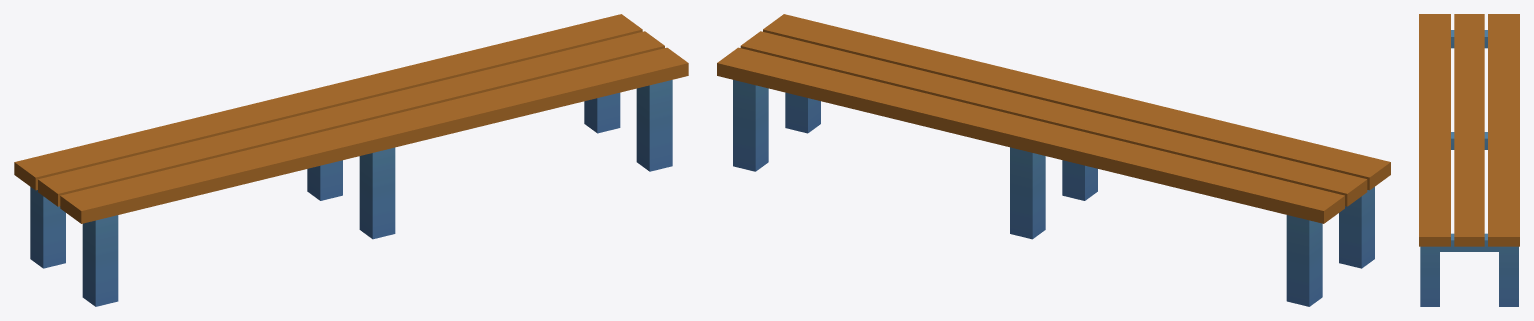
Rendered from Bench_1_B_3.fbx.
3 renders of one model, left to right at view 1: azimuth 30°, elevation 25°; view 2: azimuth 150°, elevation 25°; view 3: azimuth 270°, elevation 25°, orthographic. The views are drawn at different scales.
Visible parts, largest first — view 1: Bench_1_B_3; view 2: Bench_1_B_3; view 3: Bench_1_B_3.
Boxes of the visible parts, x1,y1,x2,y2 form: Bench_1_B_3: [14, 14, 688, 306]; Bench_1_B_3: [717, 14, 1390, 306]; Bench_1_B_3: [1419, 14, 1519, 306].
Bounding box in the file's own units: 213 × 33.54 × 40.68.
